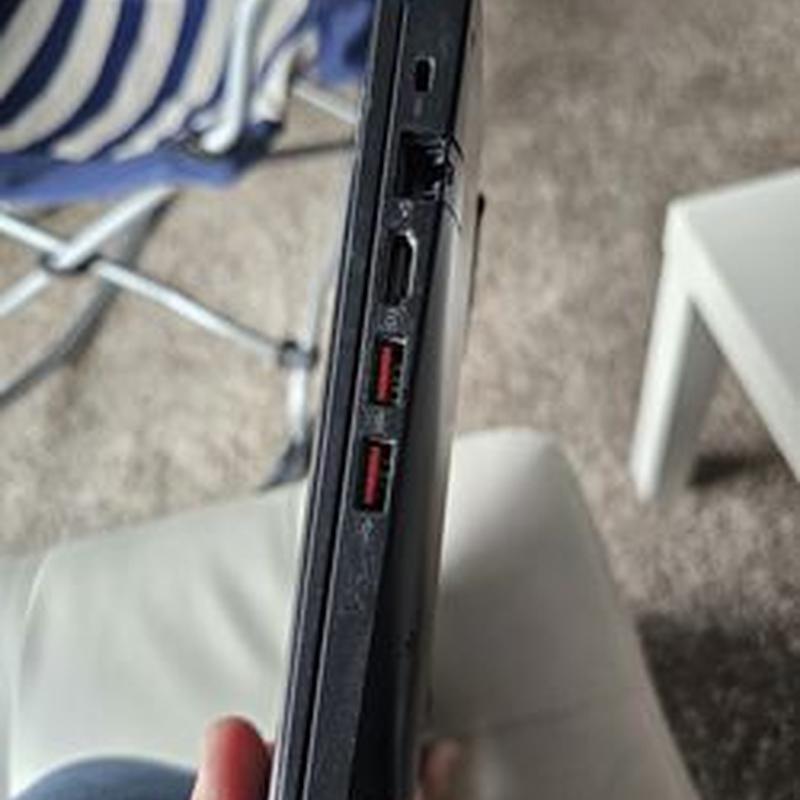ETHERNET: (378, 120, 453, 209)
HDMI: (365, 218, 428, 313)
USB: (334, 429, 405, 530), (355, 322, 414, 415)
